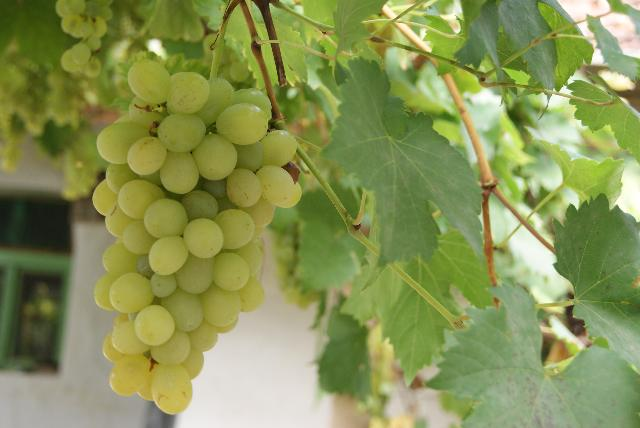grapes: (92, 59, 300, 415)
